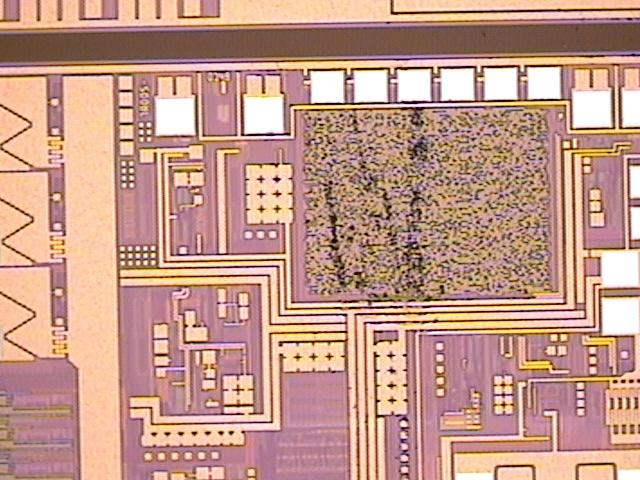SCRATCH: (319, 94, 449, 341)
